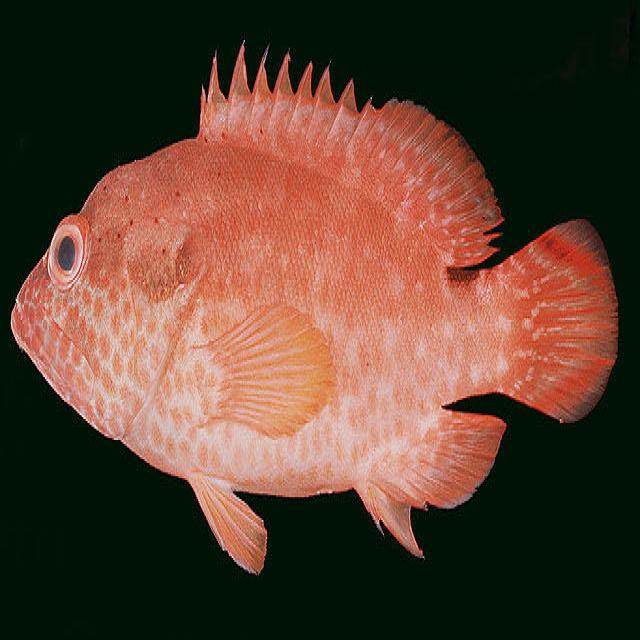ikan: (7, 23, 630, 588)
